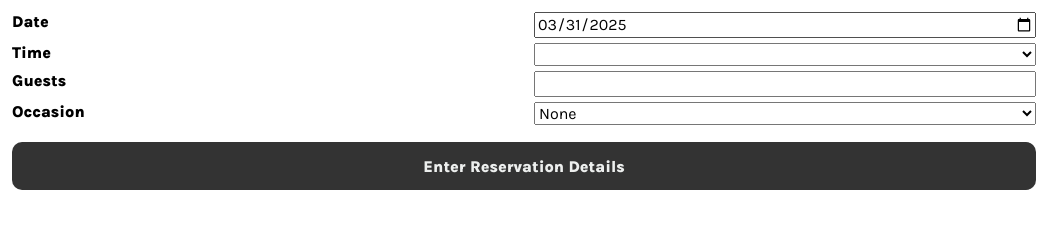
Test case: Error message shows when guests are set to 0
This screenshot has width=1048, height=232.
Type "0" into the number field labelled "Guests" at (785,84), box [534,71,1036,97]
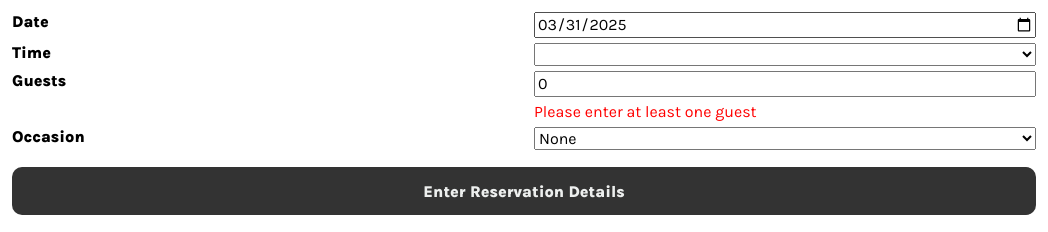
Expected: the text "Please enter at least one guest" is shown, [534,102,757,121]
